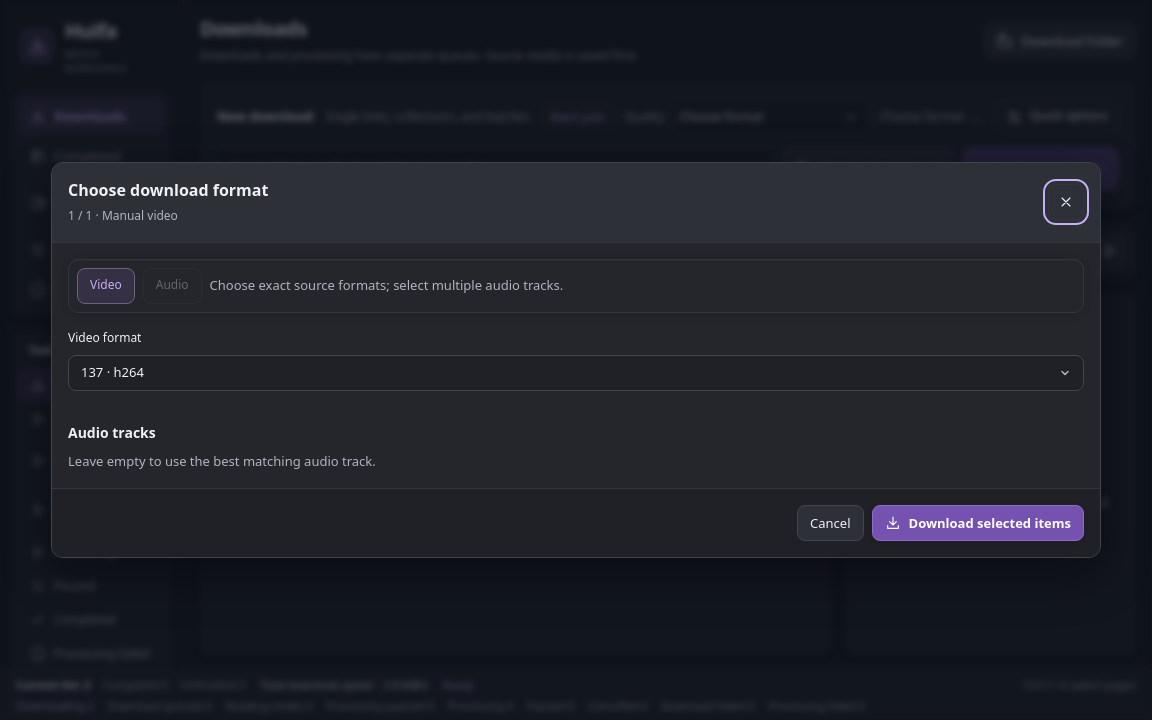
live interface stability › keeps monitored manual formats in the existing confirmation flow and does not reopen a cancelled choice
The image size is (1152, 720).
Expected: the dialog "Choose download format" is shown, [51, 162, 1101, 558]
Step 1. Click the button "Cancel" → (830, 523), box [797, 505, 864, 541]
Wait 2000 ms
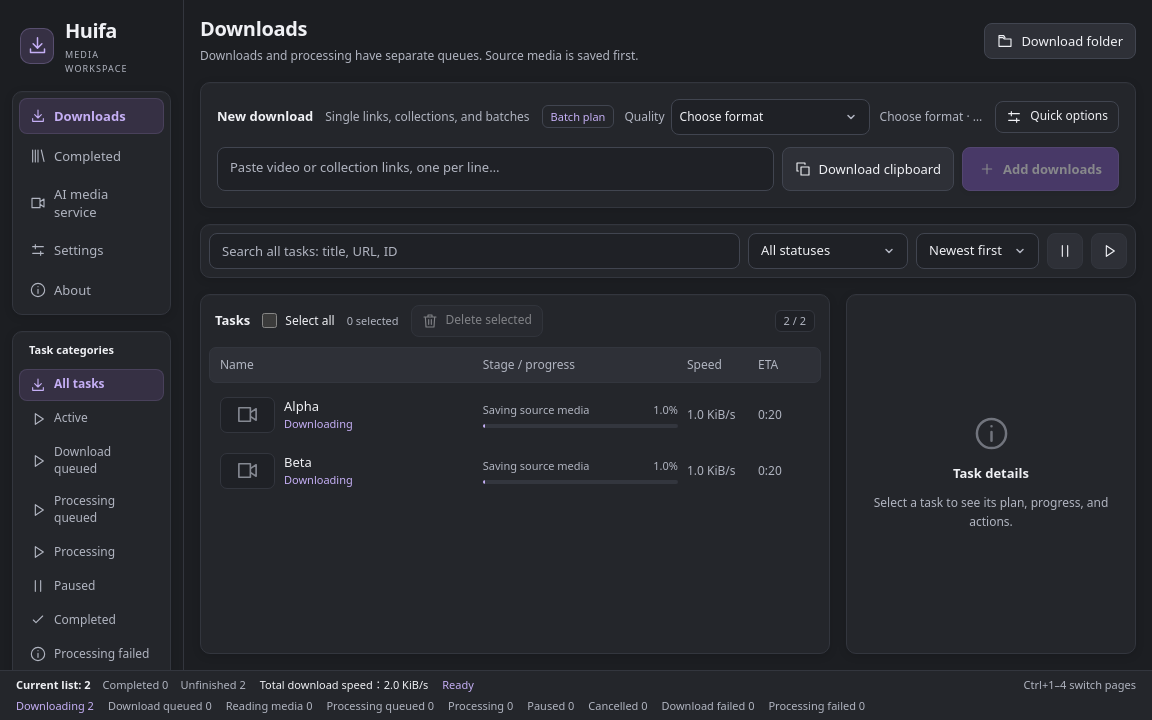
Expected: the dialog is gone
